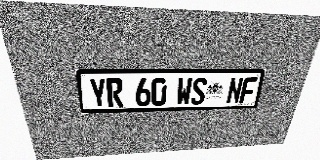0: (151, 78, 167, 106)
6: (135, 78, 151, 106)
F: (239, 77, 258, 103)
N: (226, 77, 244, 104)
R: (106, 78, 123, 107)
S: (190, 78, 207, 105)
W: (176, 78, 193, 105)
Y: (88, 78, 107, 108)
